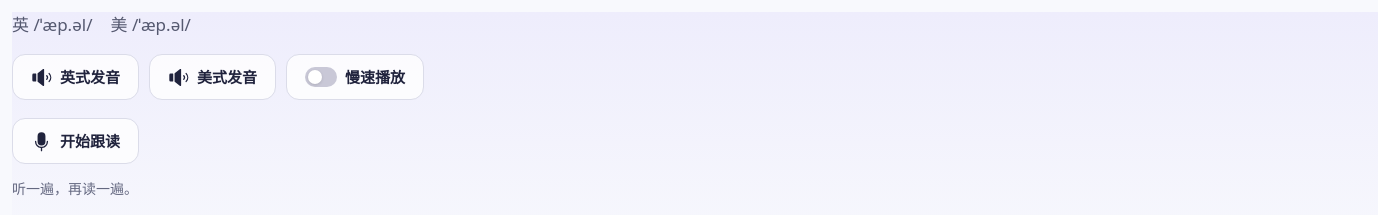
PronunciationControls › recovers from a native recorder stop error without claiming a replay exists
Click the button "开始跟读" at (76, 141), box [12,118,139,164]
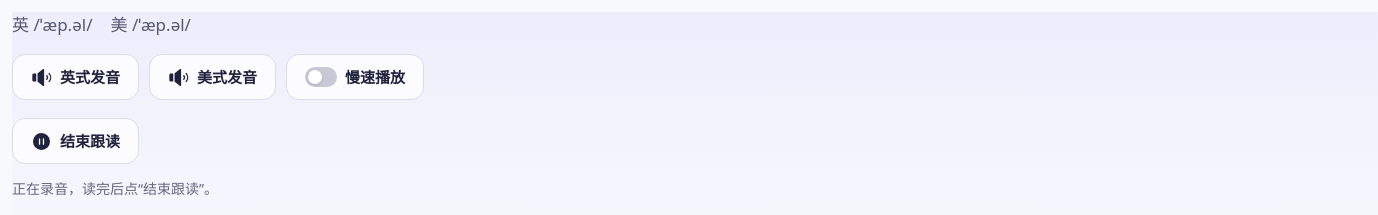
Click the button "结束跟读" at (76, 141), box [12,118,139,164]
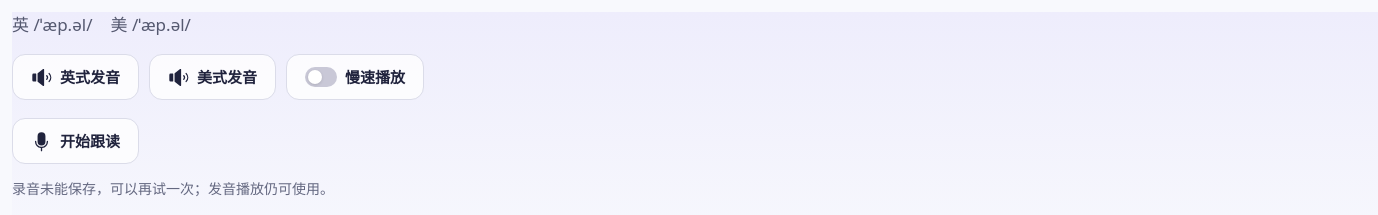
expect the text "录音未能保存，可以再试一次；发音播放仍可使用。" is shown: met, box [12,179,334,198]
